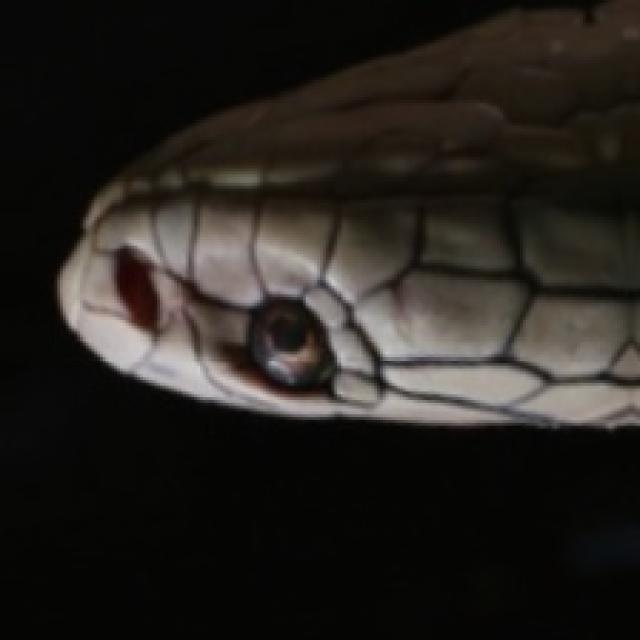king cobra: (57, 0, 637, 423)
